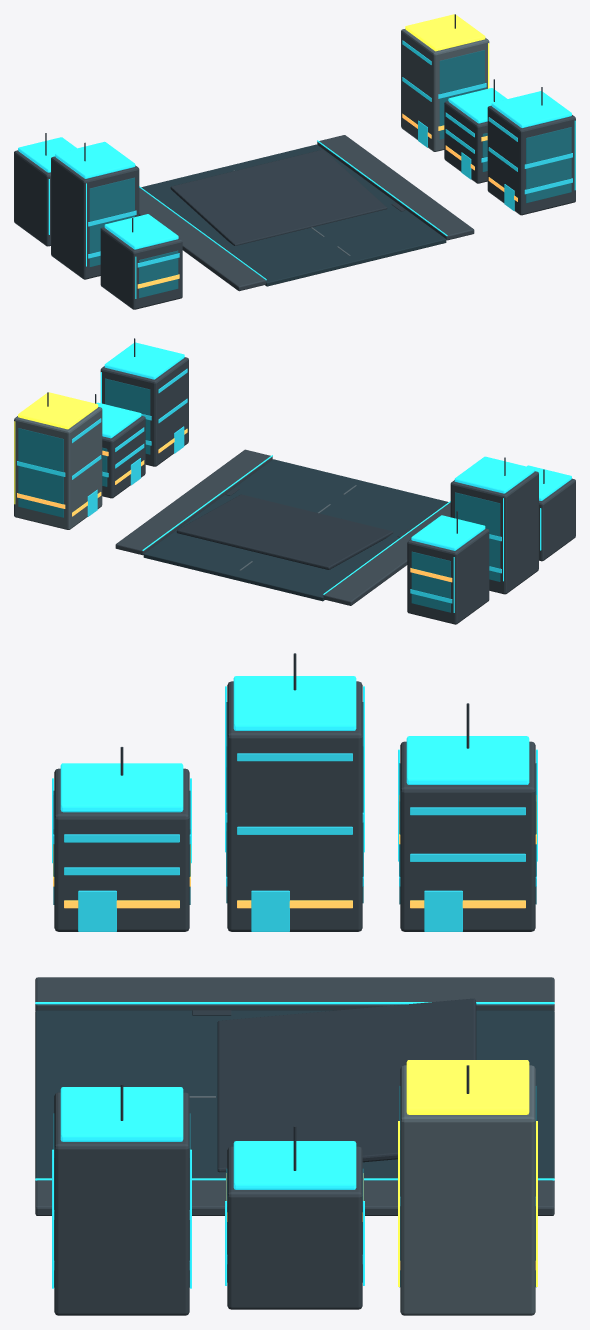
File: ramp_up_lod1.glb
3 views of the same model, one above another, from view 1: azimuth 30°, elevation 25°; view 2: azimuth 150°, elevation 25°; view 3: azimuth 270°, elevation 25° (orthographic). The views are drawn at different scales.
Visible parts, largest first — view 1: ND_Batch_ND_CityConcrete, ND_Batch_ND_RooftopMetal, ND_Batch_ND_WetAsphalt, ND_Batch_ND_DarkGlass, ND_Batch_ND_CityCyanMuted, ND_Batch_ND_RoadEdge, ND_Batch_ND_CityConcreteLight, ND_Batch_ND_NeonGlass, ND_Batch_ND_PackageGold, ND_Batch_ND_WarmWindow; view 2: ND_Batch_ND_CityConcrete, ND_Batch_ND_WetAsphalt, ND_Batch_ND_RooftopMetal, ND_Batch_ND_DarkGlass, ND_Batch_ND_CityCyanMuted, ND_Batch_ND_RoadEdge, ND_Batch_ND_CityConcreteLight, ND_Batch_ND_NeonGlass, ND_Batch_ND_PackageGold, ND_Batch_ND_WarmWindow; view 3: ND_Batch_ND_CityConcrete, ND_Batch_ND_CityCyanMuted, ND_Batch_ND_RooftopMetal, ND_Batch_ND_CityConcreteLight, ND_Batch_ND_WetAsphalt, ND_Batch_ND_RoadEdge, ND_Batch_ND_NeonGlass, ND_Batch_ND_PackageGold, ND_Batch_ND_DarkGlass, ND_Batch_ND_WarmWindow.
Part boxes in pixels (bbox=[...]): ND_Batch_ND_CityConcrete: bbox=[14, 101, 575, 309]; ND_Batch_ND_RooftopMetal: bbox=[45, 14, 542, 252]; ND_Batch_ND_WetAsphalt: bbox=[141, 144, 446, 286]; ND_Batch_ND_DarkGlass: bbox=[89, 50, 571, 298]; ND_Batch_ND_CityCyanMuted: bbox=[18, 88, 575, 298]; ND_Batch_ND_RoadEdge: bbox=[139, 135, 474, 291]; ND_Batch_ND_CityConcreteLight: bbox=[233, 29, 489, 255]; ND_Batch_ND_NeonGlass: bbox=[88, 40, 572, 267]; ND_Batch_ND_PackageGold: bbox=[405, 14, 489, 88]; ND_Batch_ND_WarmWindow: bbox=[137, 113, 517, 288]; ND_Batch_ND_CityConcrete: bbox=[100, 357, 575, 624]; ND_Batch_ND_WetAsphalt: bbox=[143, 459, 448, 601]; ND_Batch_ND_RooftopMetal: bbox=[47, 338, 544, 569]; ND_Batch_ND_DarkGlass: bbox=[18, 378, 500, 612]; ND_Batch_ND_CityCyanMuted: bbox=[96, 342, 571, 612]; ND_Batch_ND_RoadEdge: bbox=[115, 449, 450, 605]; ND_Batch_ND_CityConcreteLight: bbox=[14, 407, 356, 570]; ND_Batch_ND_NeonGlass: bbox=[17, 368, 501, 603]; ND_Batch_ND_PackageGold: bbox=[14, 392, 98, 504]; ND_Batch_ND_WarmWindow: bbox=[17, 428, 452, 582]; ND_Batch_ND_CityConcrete: bbox=[54, 681, 535, 1315]; ND_Batch_ND_CityCyanMuted: bbox=[35, 676, 554, 1288]; ND_Batch_ND_RooftopMetal: bbox=[120, 653, 476, 1178]; ND_Batch_ND_CityConcreteLight: bbox=[189, 1065, 535, 1315]; ND_Batch_ND_WetAsphalt: bbox=[35, 1010, 554, 1181]; ND_Batch_ND_RoadEdge: bbox=[35, 977, 554, 1215]; ND_Batch_ND_NeonGlass: bbox=[53, 753, 536, 1269]; ND_Batch_ND_PackageGold: bbox=[398, 1060, 537, 1286]; ND_Batch_ND_DarkGlass: bbox=[53, 702, 536, 1287]; ND_Batch_ND_WarmWindow: bbox=[53, 795, 536, 1269].
Size of the model in its own units: 40 by 10.63 by 20.
